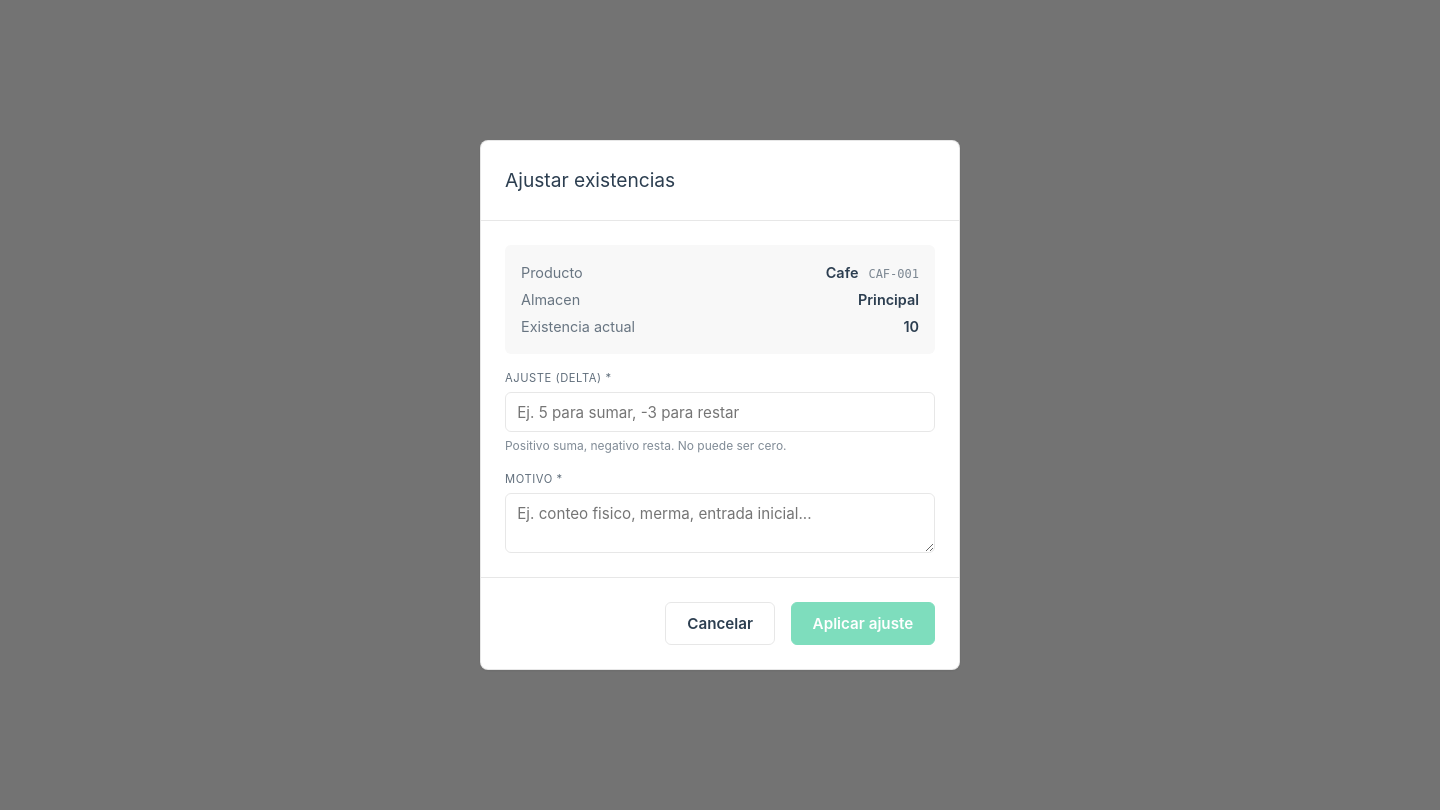
AdjustStockModal › submit habilitado con delta distinto de cero y motivo valido
Type "5" into the field with id "a-delta".
click(720, 412); type("5")  # box [505, 392, 935, 432]
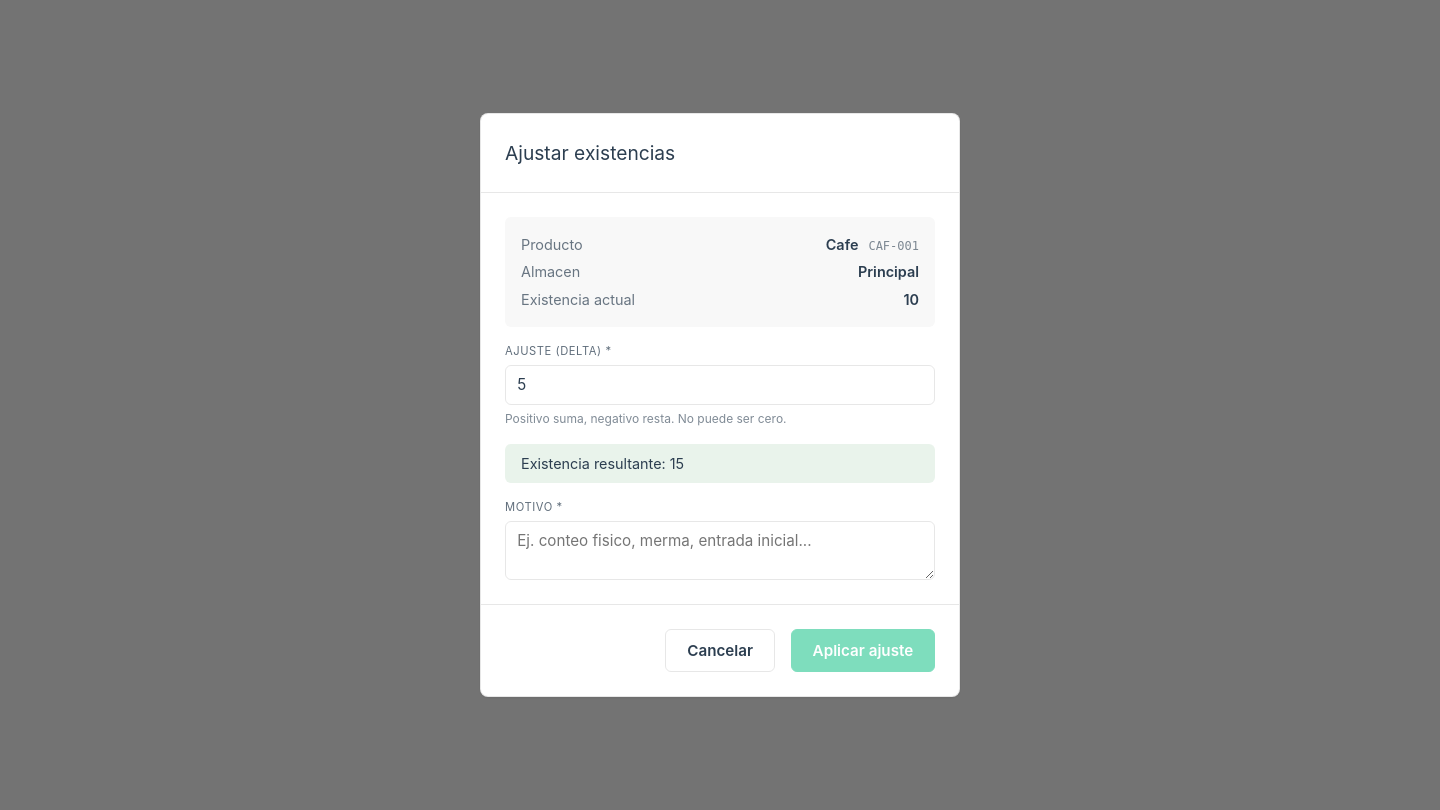
Type "Conteo fisico" into the text box with id "a-reason".
click(720, 550); type("Conteo fisico")  # box [505, 521, 935, 580]
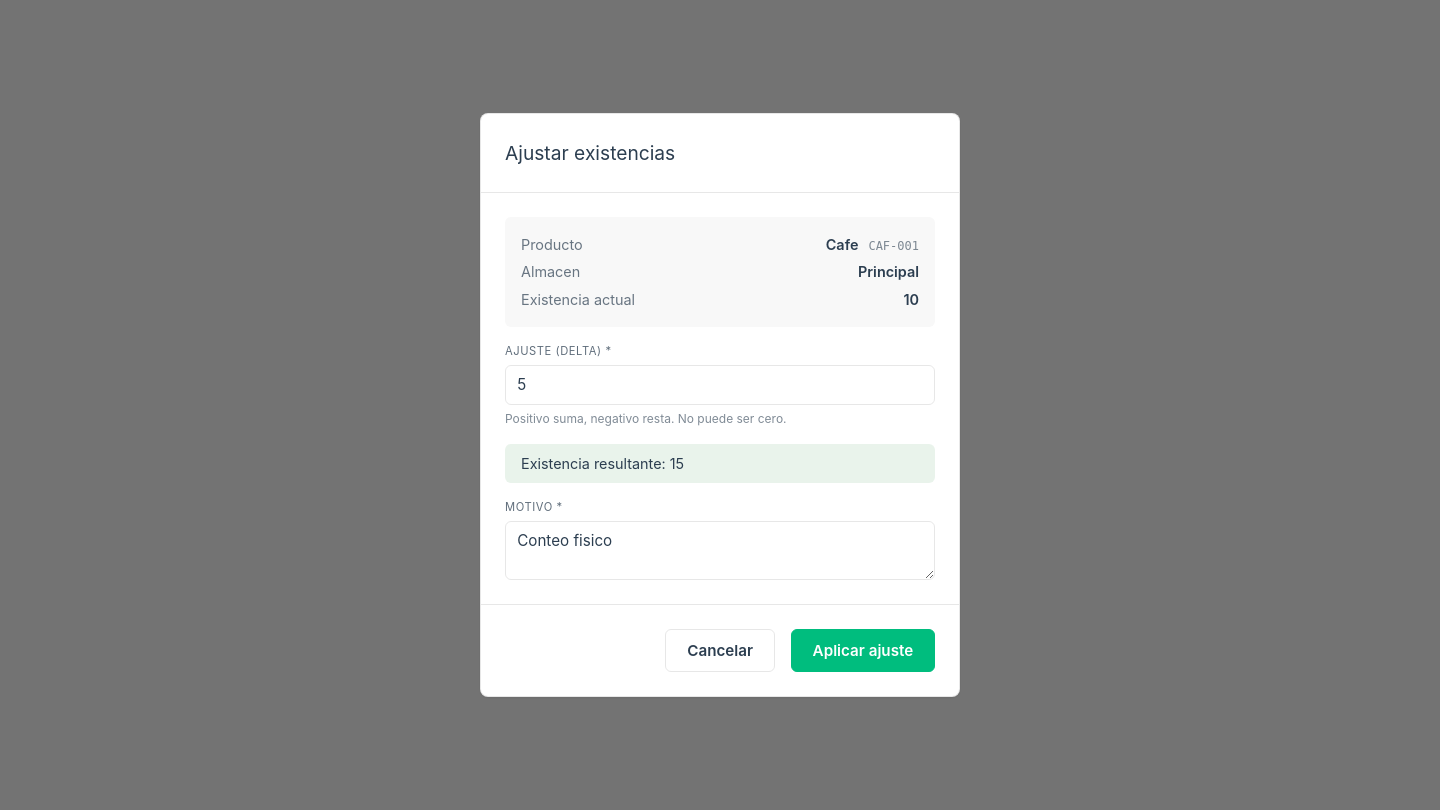
Expected: the button with class "adj-modal__btn--save" is enabled, [791, 629, 935, 672]
